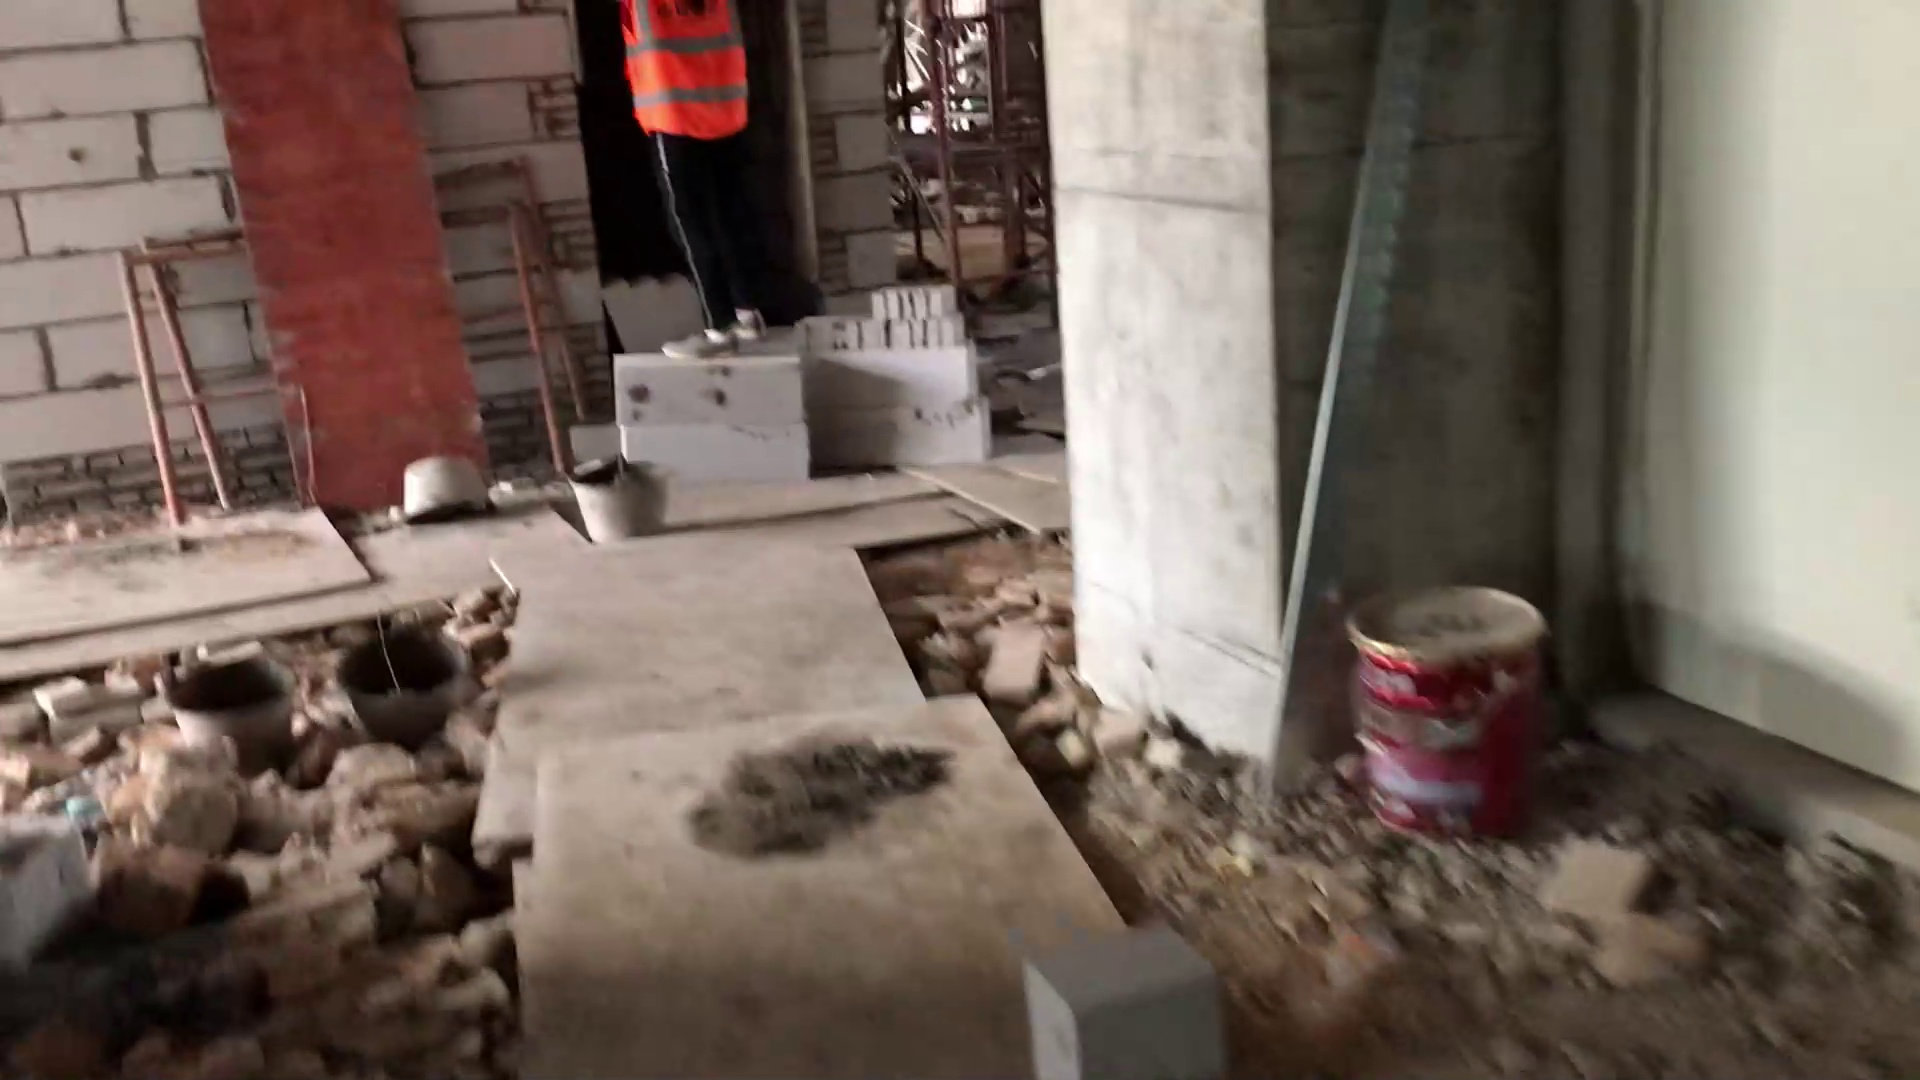brick: (777, 337, 1001, 478), (604, 344, 817, 489)
person: (599, 1, 784, 367)
vest: (615, 1, 769, 143)
